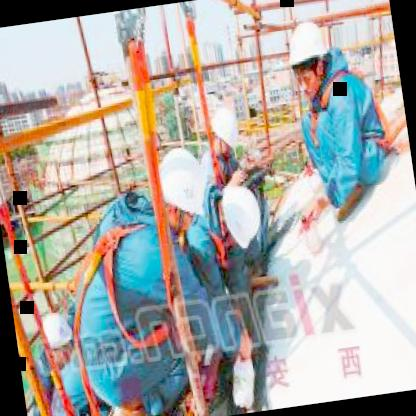helmet: (152, 139, 207, 239), (282, 17, 335, 102), (210, 183, 268, 254), (40, 304, 77, 364), (210, 103, 242, 162)
